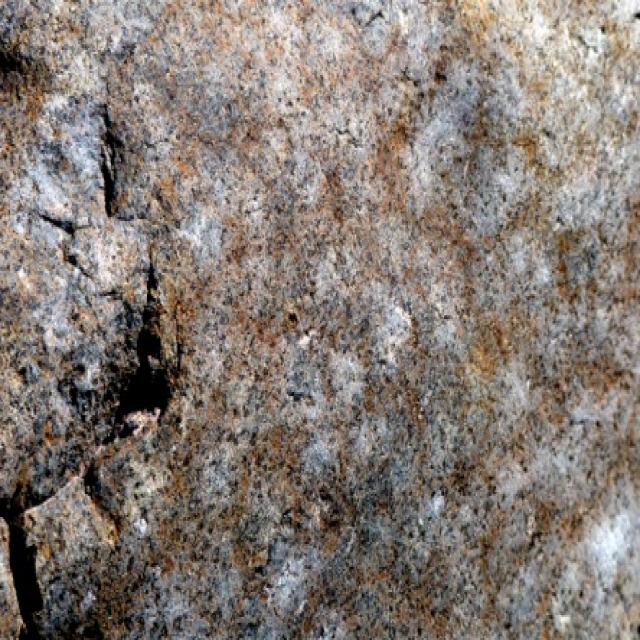Igneous: (2, 2, 636, 634)
